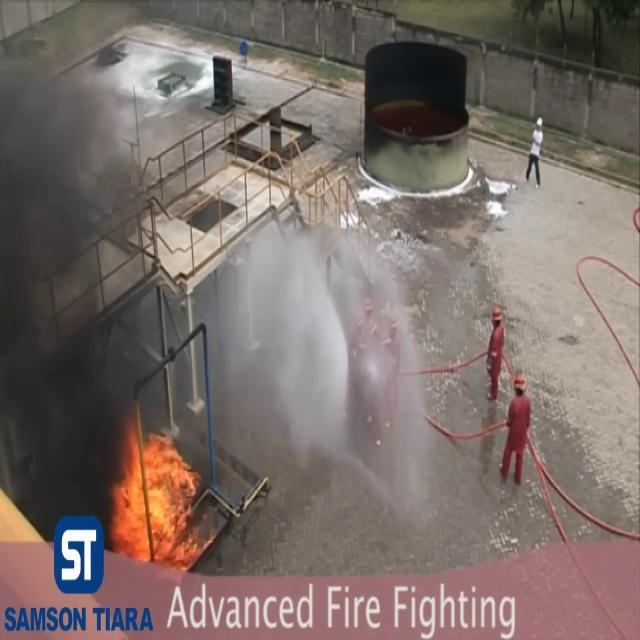Fire: (107, 408, 205, 568)
Smoke: (2, 1, 146, 468)
